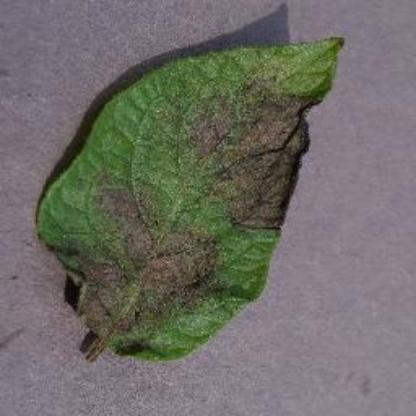Late-Blight: (16, 24, 374, 384)
